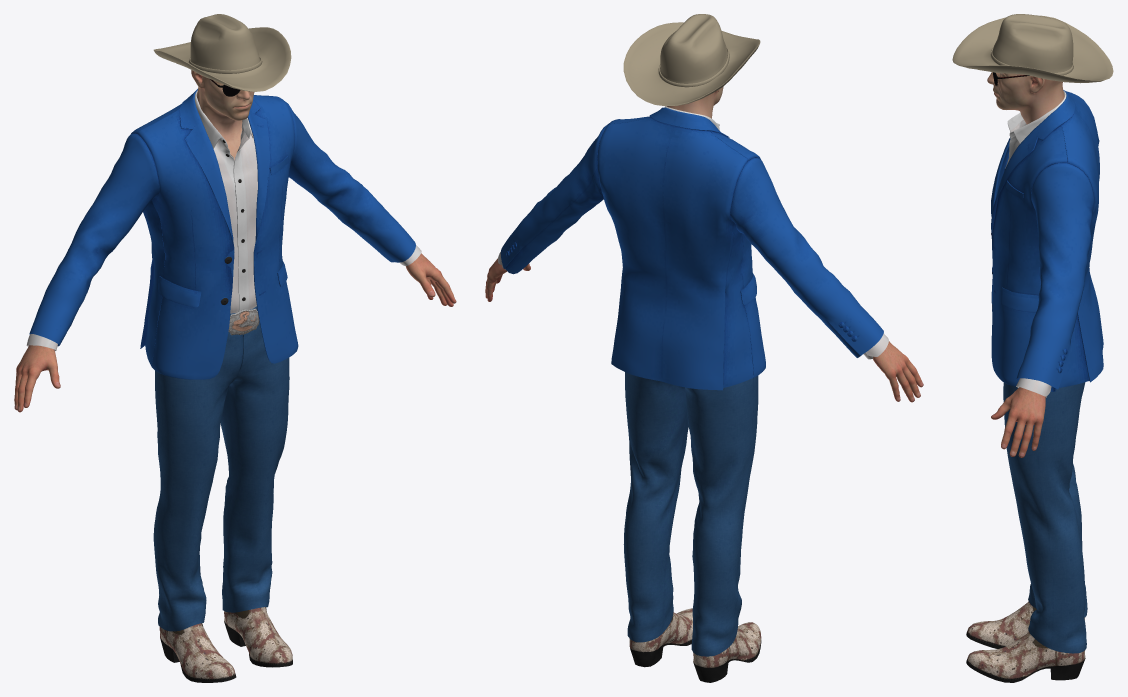
File: cowboy.glb
The picture shows the model from 3 angles, left to right: view 1: azimuth 30°, elevation 25°; view 2: azimuth 150°, elevation 25°; view 3: azimuth 270°, elevation 25°; orthographic projection.
Visible parts, largest first — view 1: hitman_cowboy; view 2: hitman_cowboy; view 3: hitman_cowboy.
Part boxes in pixels (box(x1,y1,x2,y2)): hitman_cowboy: box(14, 14, 456, 682); hitman_cowboy: box(485, 14, 923, 682); hitman_cowboy: box(952, 14, 1113, 682).
Size of the model in its own units: 1.31 by 1.84 by 0.4177.
Materials: 16 (15 with a texture image).
